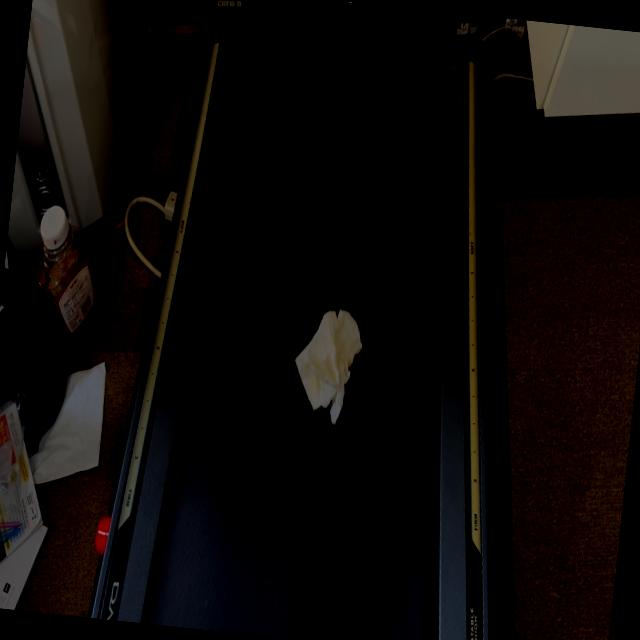Recycle: (288, 300, 368, 430)
